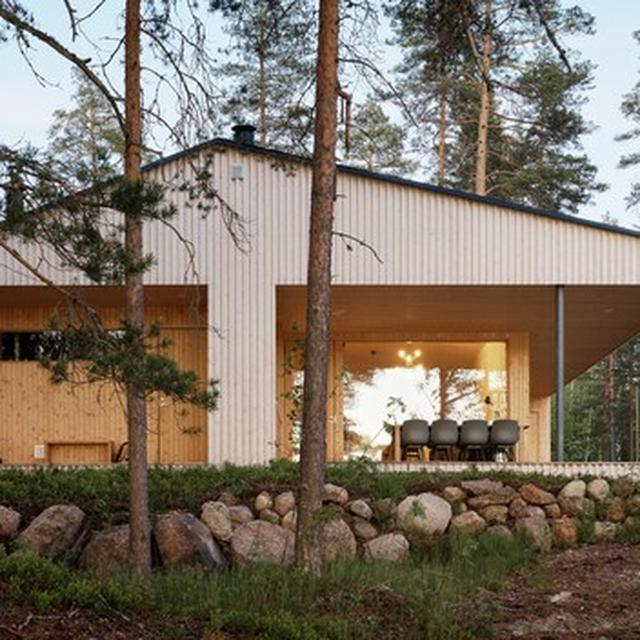building: (2, 137, 640, 481)
